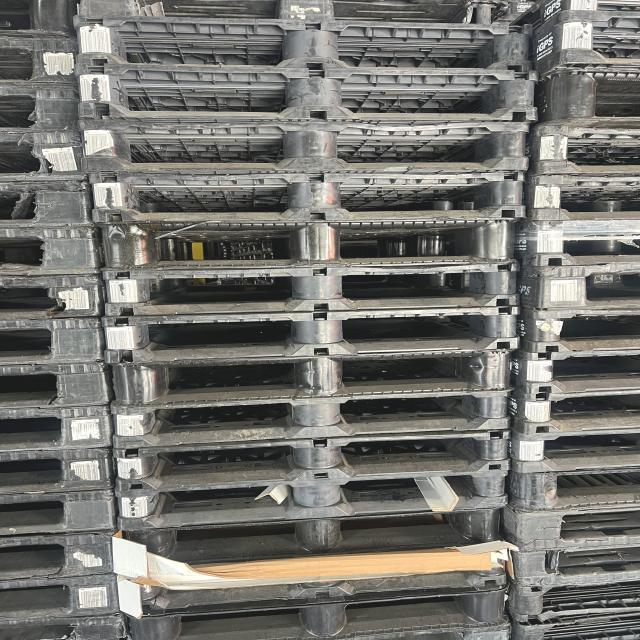igps: (118, 538, 512, 618), (69, 60, 544, 125), (116, 504, 505, 582), (66, 11, 538, 74), (75, 113, 532, 177), (110, 426, 513, 496), (103, 385, 516, 453), (98, 303, 523, 367), (100, 257, 524, 321), (85, 168, 533, 228), (110, 468, 510, 534), (102, 347, 520, 409), (120, 576, 512, 640), (88, 216, 525, 273), (69, 0, 512, 26), (507, 7, 640, 77), (495, 502, 640, 554), (523, 66, 640, 130), (508, 170, 640, 226), (0, 526, 125, 585), (522, 116, 640, 178), (496, 346, 640, 396), (501, 577, 640, 628), (504, 303, 640, 355), (250, 614, 512, 640), (502, 465, 640, 514), (510, 217, 640, 269), (0, 570, 125, 624), (501, 426, 640, 474), (0, 485, 120, 540), (504, 388, 640, 436), (0, 444, 118, 499), (514, 261, 640, 312), (0, 358, 119, 412), (505, 541, 640, 588), (0, 313, 111, 370), (0, 402, 115, 455), (0, 223, 107, 277), (0, 178, 106, 232), (0, 271, 108, 323), (0, 129, 92, 184), (0, 80, 86, 137), (0, 30, 83, 86), (0, 80, 83, 136), (505, 0, 640, 31), (0, 609, 135, 640), (506, 609, 639, 640), (0, 0, 82, 43)
